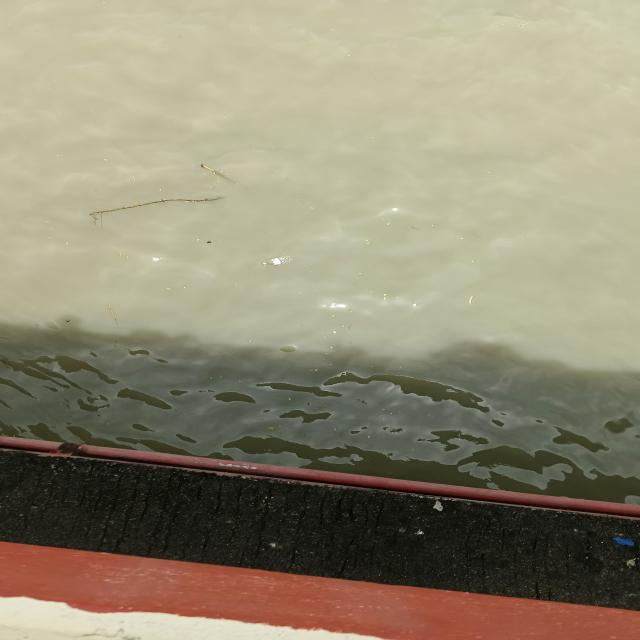Organic Debris: (85, 195, 227, 230), (198, 163, 236, 184), (106, 301, 120, 327), (462, 293, 480, 308), (262, 426, 278, 432), (150, 256, 163, 262), (409, 226, 421, 232), (331, 425, 340, 432), (206, 374, 215, 381), (284, 397, 296, 402), (364, 434, 374, 440), (381, 292, 390, 298), (380, 296, 390, 301), (312, 368, 320, 374), (63, 319, 74, 323), (163, 287, 174, 291), (327, 346, 337, 350), (347, 309, 355, 314), (332, 350, 341, 354), (409, 303, 418, 307), (347, 330, 353, 336), (157, 187, 164, 192), (276, 424, 284, 428), (194, 238, 201, 242), (388, 411, 395, 415), (308, 270, 315, 274), (181, 286, 188, 290), (205, 241, 213, 244), (102, 158, 110, 161), (385, 222, 392, 225), (381, 408, 386, 412), (331, 330, 336, 334), (322, 336, 327, 340), (358, 272, 363, 276), (298, 292, 303, 296), (331, 314, 336, 318), (313, 407, 318, 411), (247, 339, 252, 343), (368, 365, 374, 368), (328, 363, 334, 366), (363, 239, 369, 242), (470, 260, 476, 263), (369, 290, 374, 293), (340, 325, 345, 328), (430, 224, 435, 227), (366, 326, 370, 329), (379, 215, 385, 217), (133, 178, 137, 181), (459, 238, 464, 240), (396, 297, 400, 299), (366, 242, 370, 244), (382, 218, 386, 220), (309, 207, 313, 209)
Plastic: (262, 256, 292, 267)
